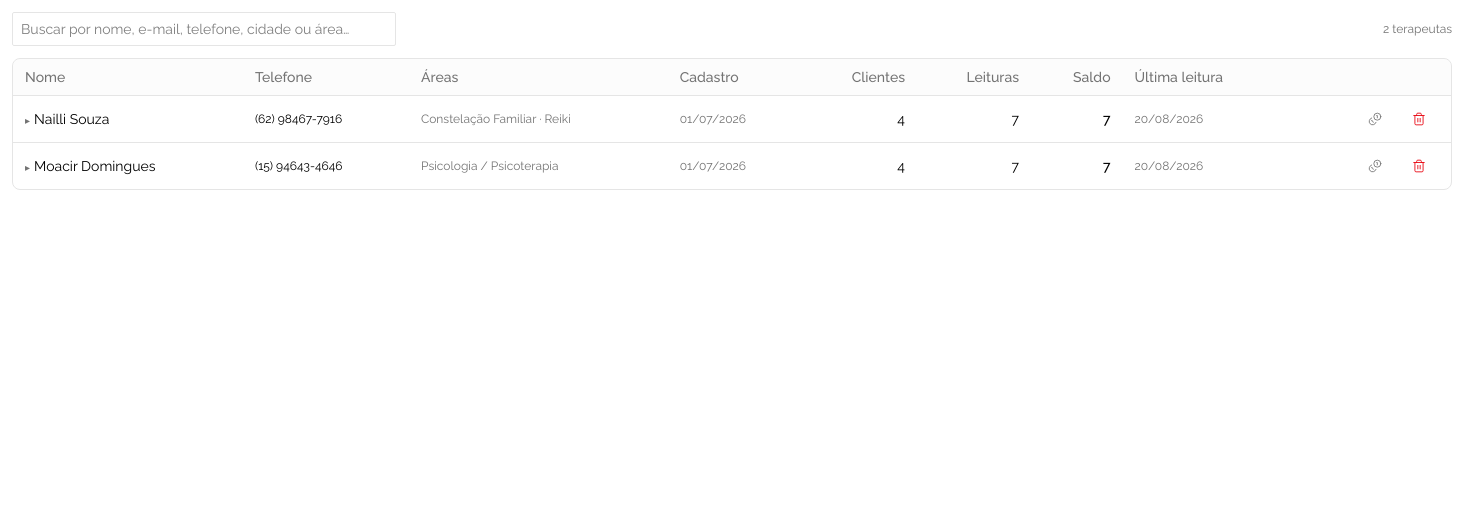
Test: TherapistTable — a ficha da pessoa › fecha ao clicar de novo, e só uma ficha fica aberta por vez
The image size is (1464, 509).
Click the text "Nailli Souza".
click(72, 119)  # box 13,96 -> 243,142
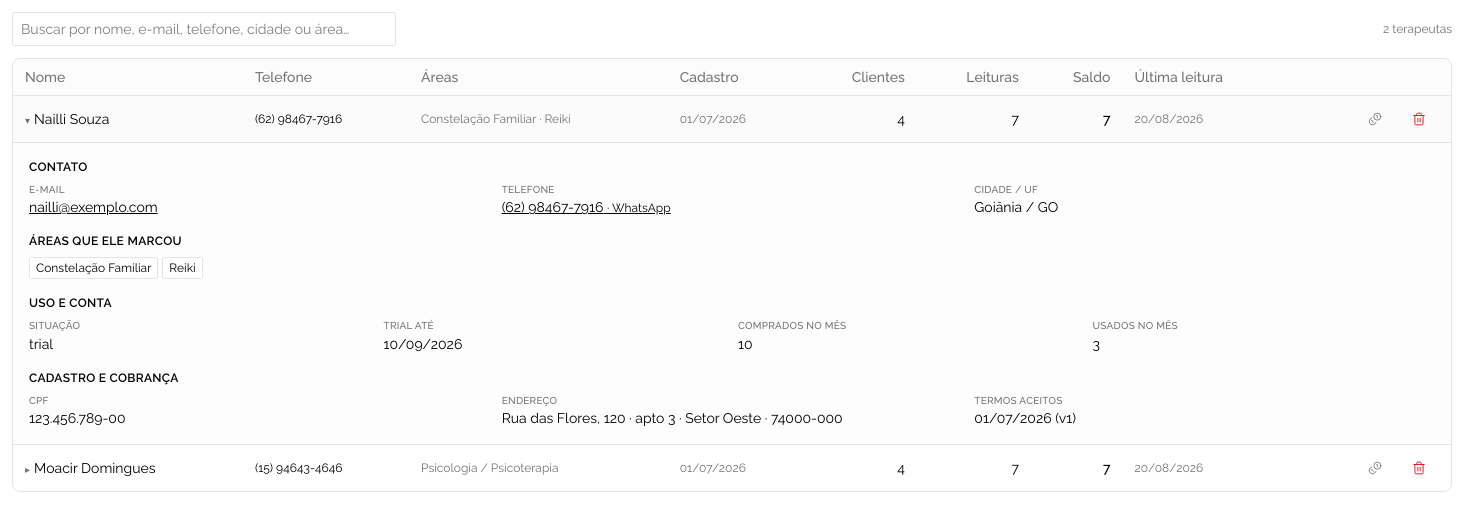
Expected: the text "Goiânia / GO" is shown, 974,199 -> 1058,215
Click the text "Moacir Domingues".
click(128, 468)  # box 13,444 -> 243,491
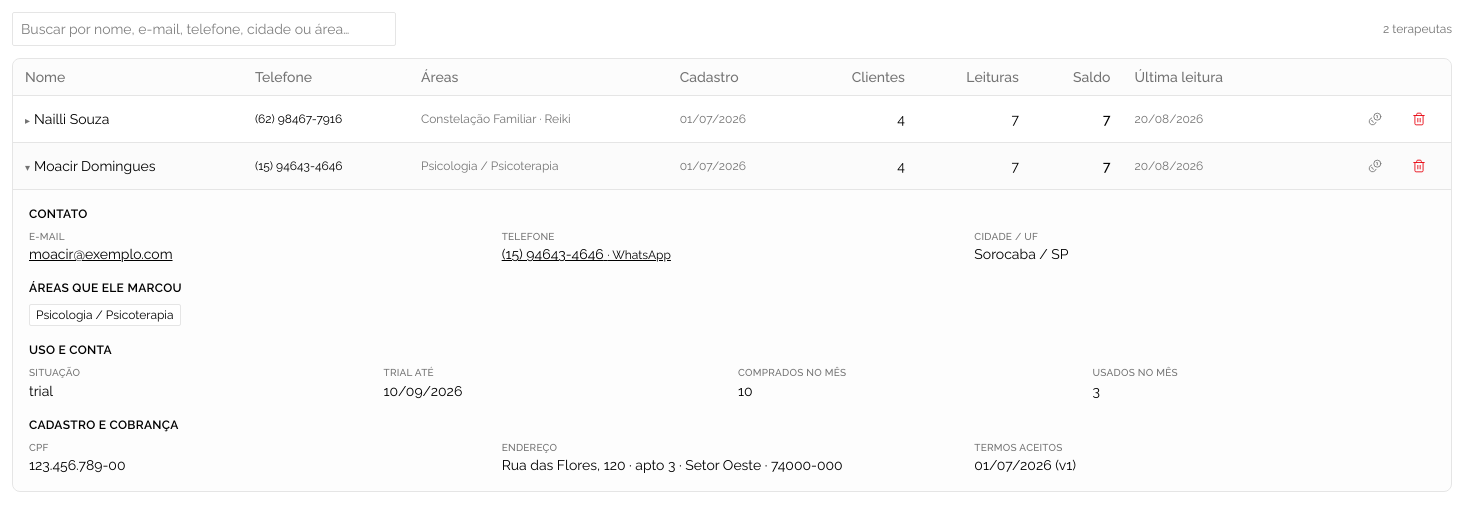
Expected: the text "Goiânia / GO" is gone
Expected: the text "Sorocaba / SP" is shown, 974,246 -> 1068,262
Click the text "Moacir Domingues".
click(128, 166)  # box 13,142 -> 243,190
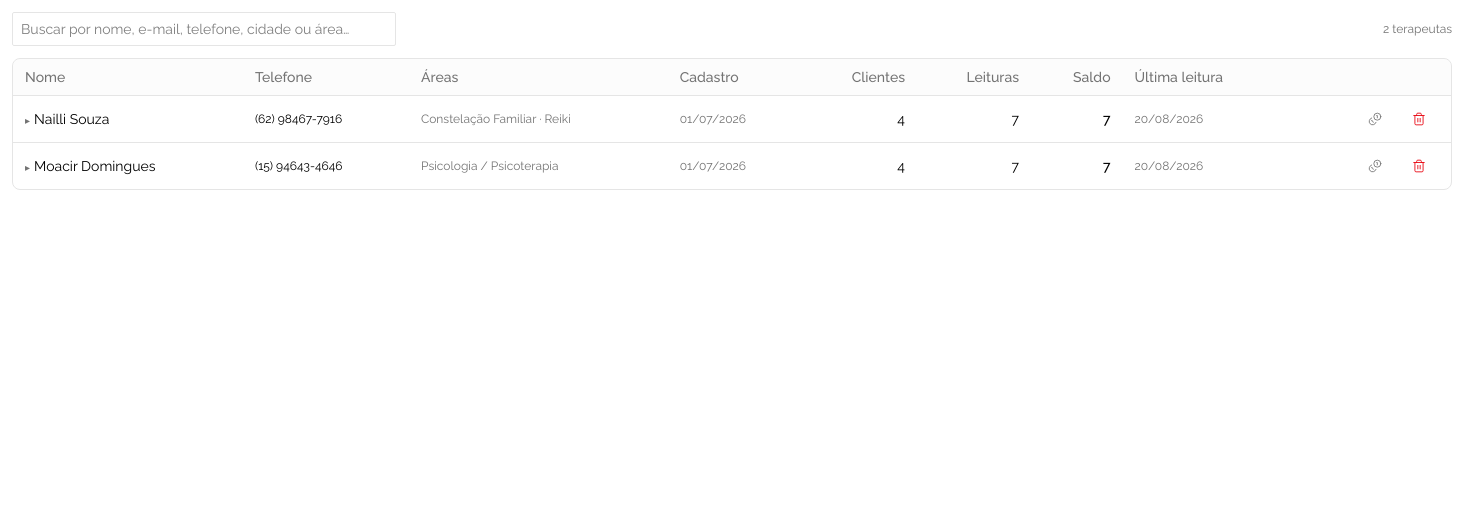
Expected: the text "Sorocaba / SP" is gone
